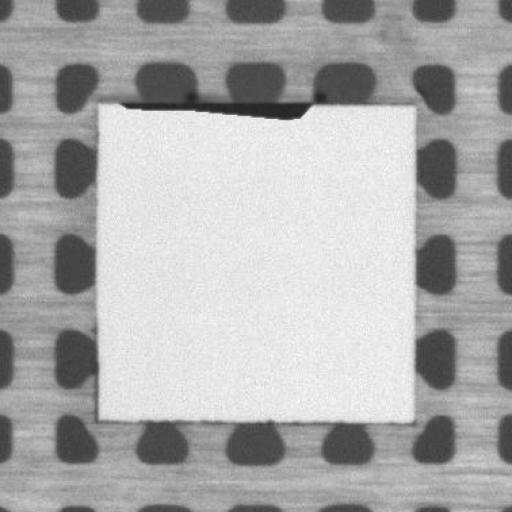DIE_BROKEN: (122, 93, 313, 120)
